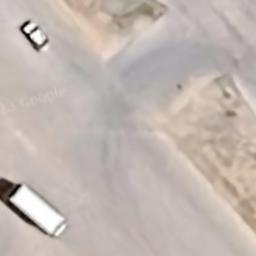others: (3, 179, 68, 241)
sedan: (19, 18, 52, 56)
